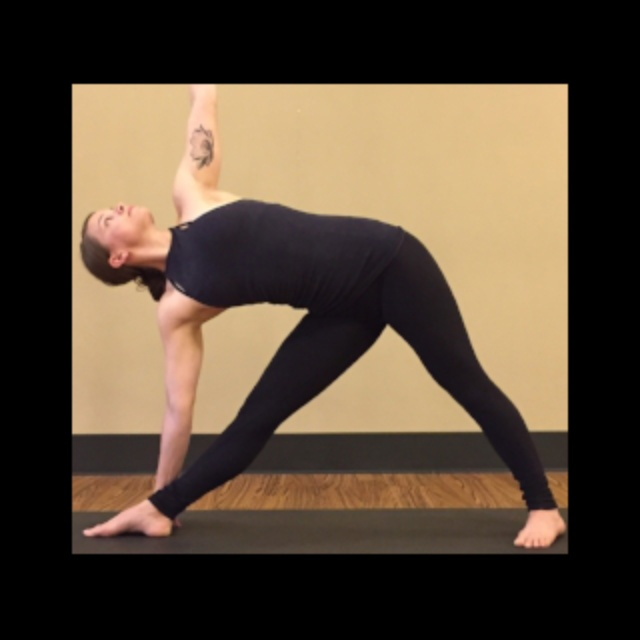Triangle_Pose: (74, 83, 568, 550)
